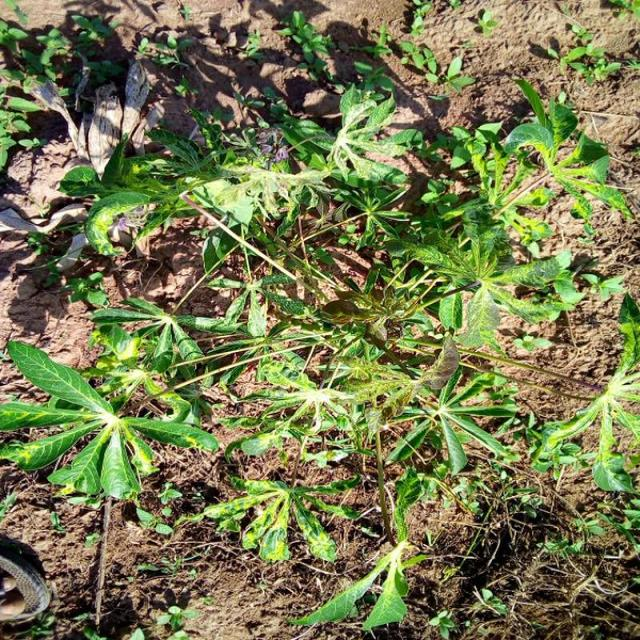cassava leaf: (1, 337, 218, 502)
